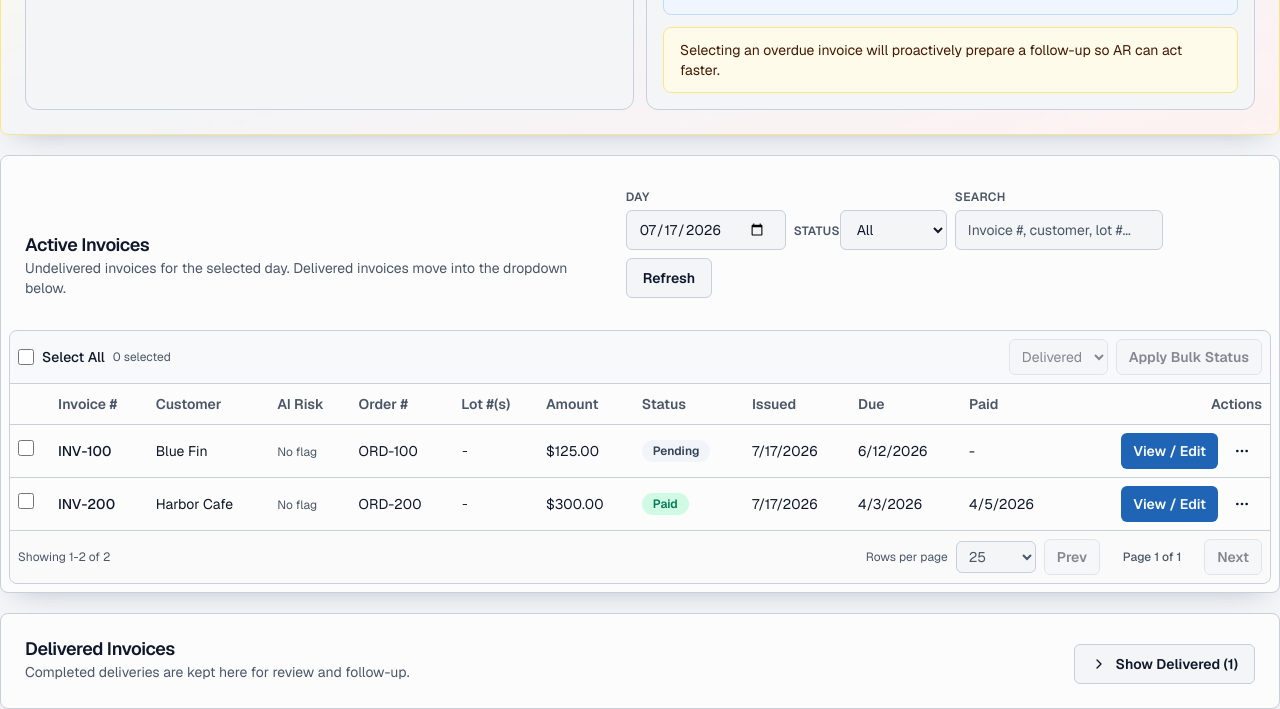
Test case: InvoicesPage › blocks printing while final weights are still pending
This screenshot has width=1280, height=709.
(page scrolled)
Expected: the text "INV-100" is shown, x1=50 y1=424 x2=148 y2=477
Click the button "View / Edit" in the row of "INV-100": (1170, 450) x1=1121 y1=432 x2=1218 y2=468
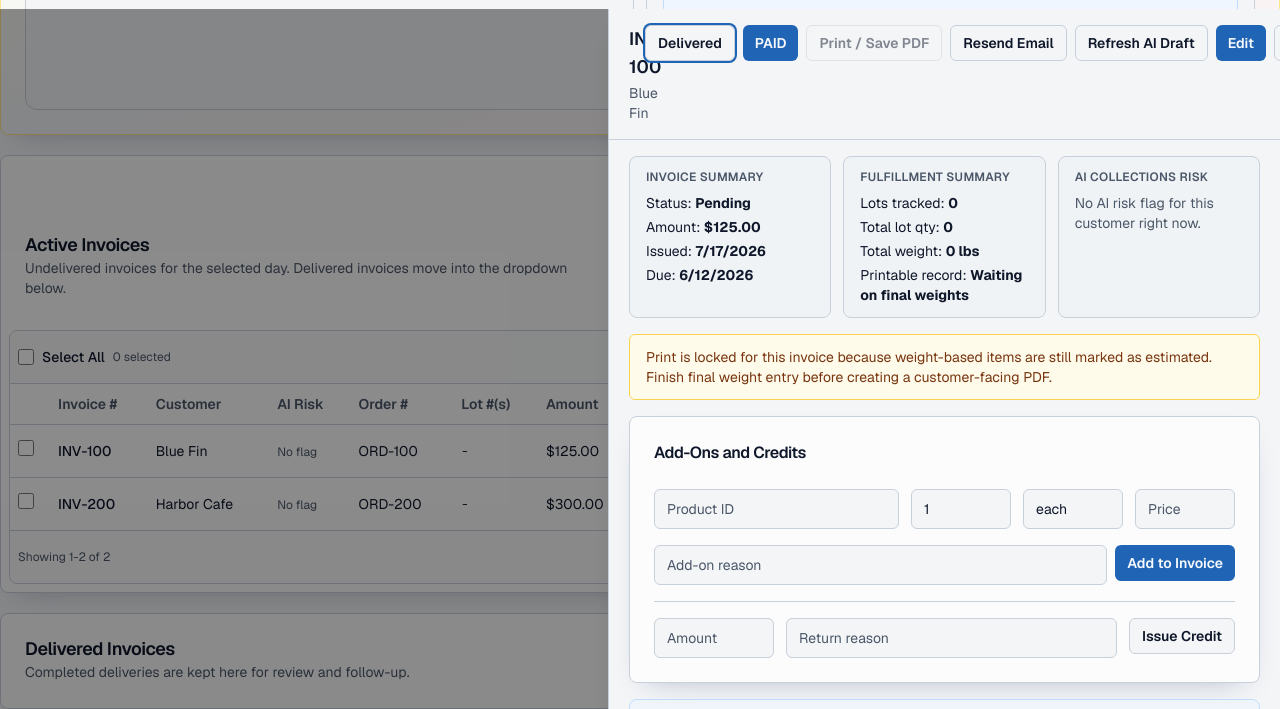
Result: the text "Waiting on final weights" is shown at x1=860 y1=266 x2=1022 y2=304
Result: the text "Print is locked for this invoice" is shown at x1=646 y1=348 x2=1212 y2=386
Result: the button "Print / Save PDF" is disabled at x1=806 y1=25 x2=942 y2=61
